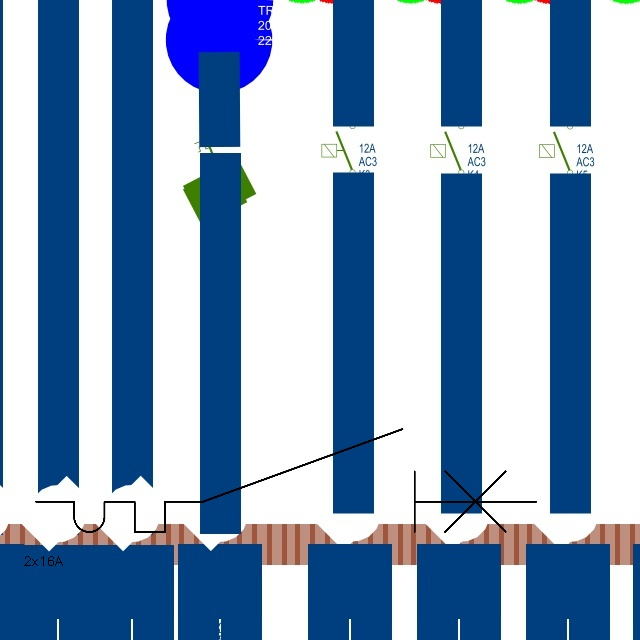interruptor_termomagnetico: (23, 416, 548, 545)
